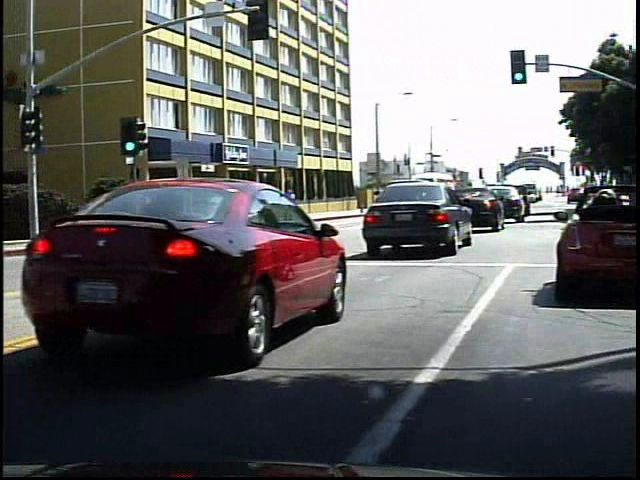person: (284, 186, 292, 212)
